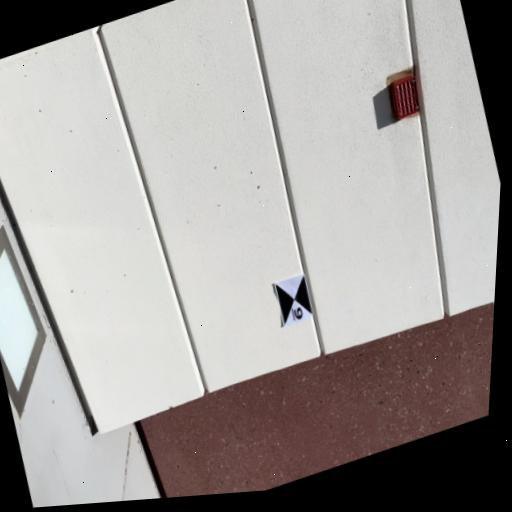target9: (273, 271, 311, 324)
